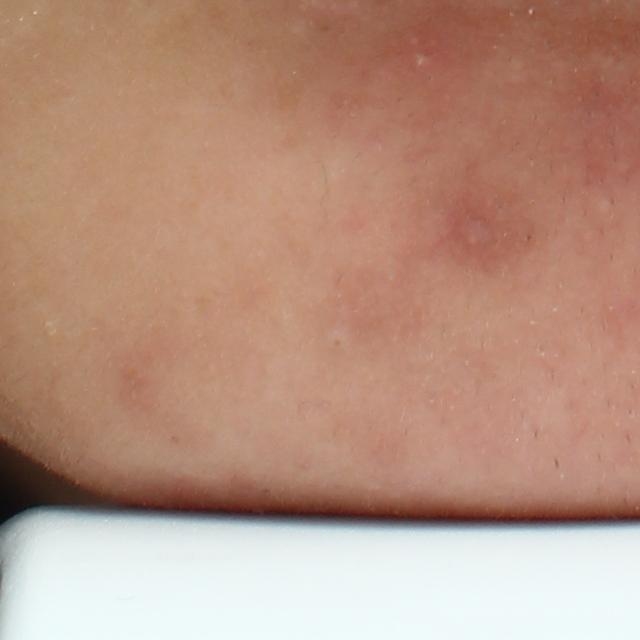comedo: (328, 333, 348, 353)
pustule: (407, 48, 430, 73)
